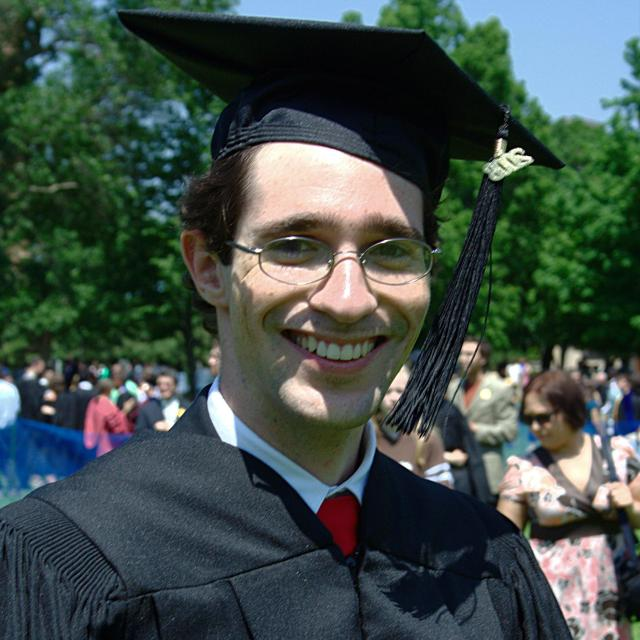no-glass: (266, 240, 416, 265)
